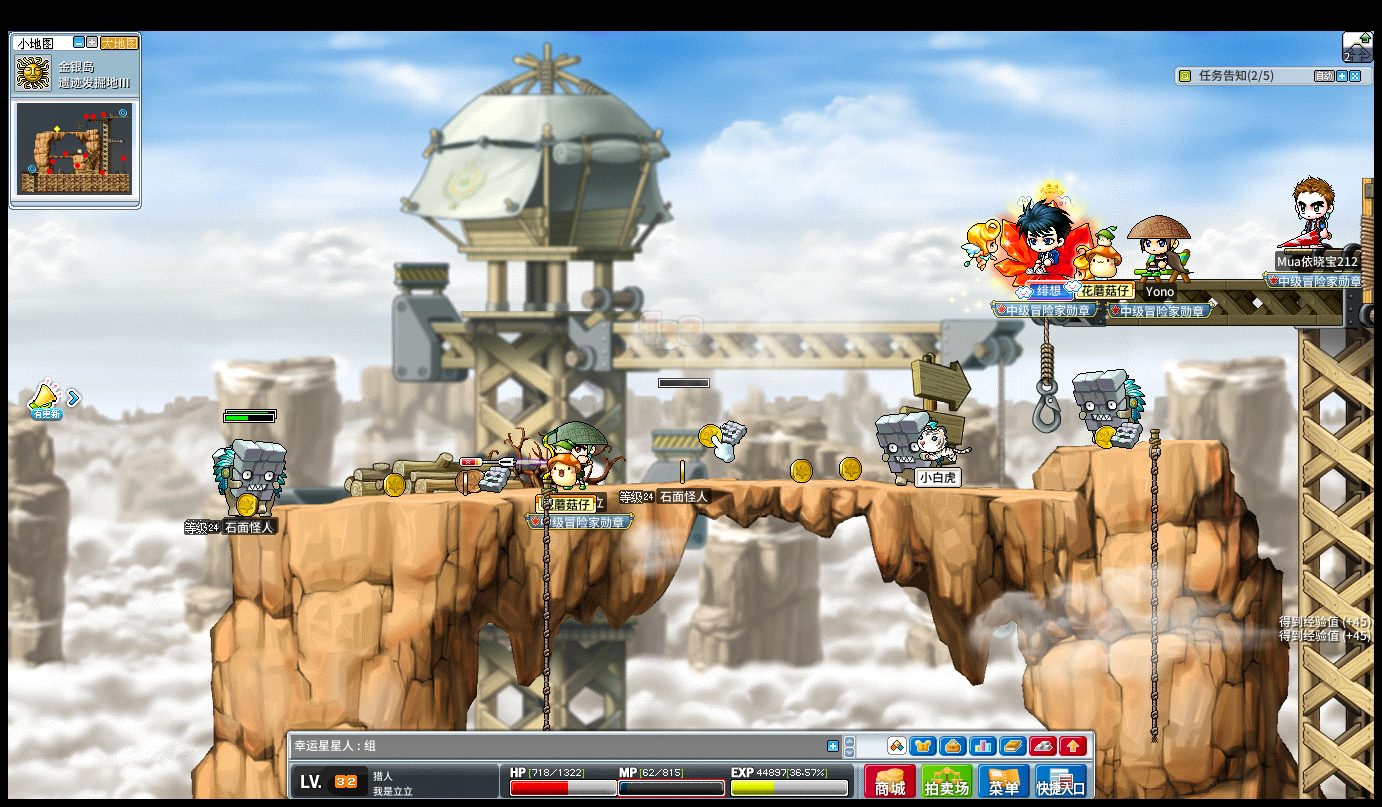floor: (236, 474, 1122, 500), (1052, 435, 1225, 451)
monster: (1072, 367, 1147, 449), (212, 439, 289, 514), (875, 410, 933, 485)
rope: (1145, 424, 1161, 747), (538, 475, 551, 781), (539, 477, 551, 693)
